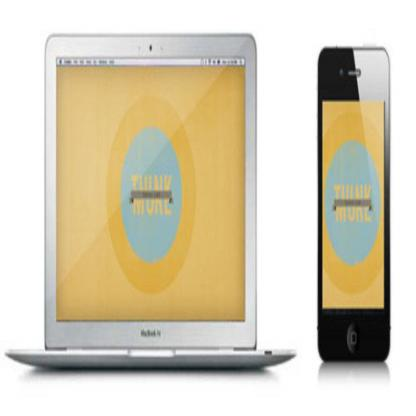board: (5, 32, 295, 370)
